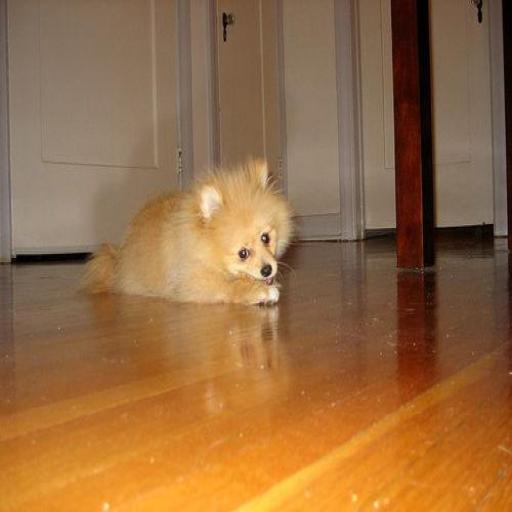dog_face: (197, 174, 286, 287)
